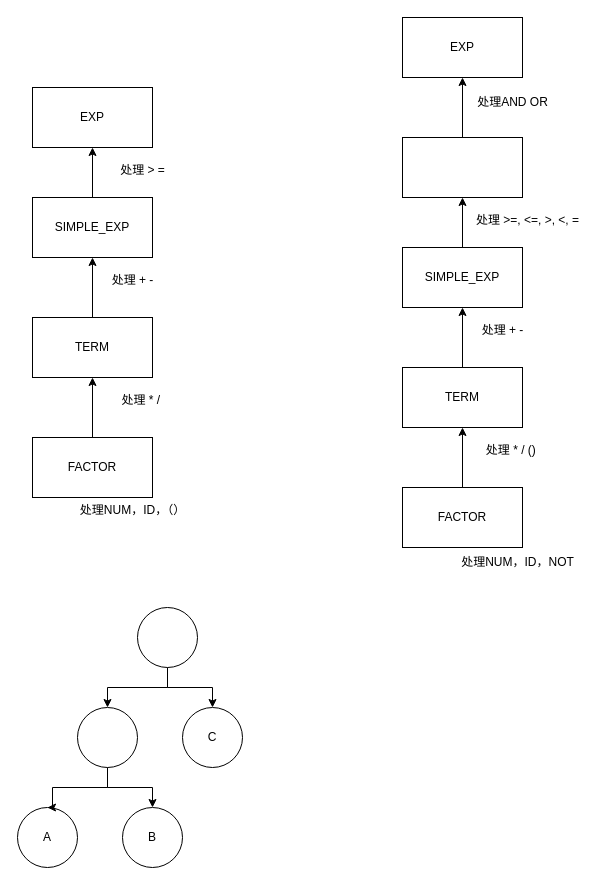
Image size: 610x885. Some labels were removed from this diagram. Here are the shapes that lost their labels. From the top down, the centre of each, then its label:
At (x=462, y=167): "CMP_EXP".
At (x=167, y=637): "OR".
At (x=107, y=737): "AND".
